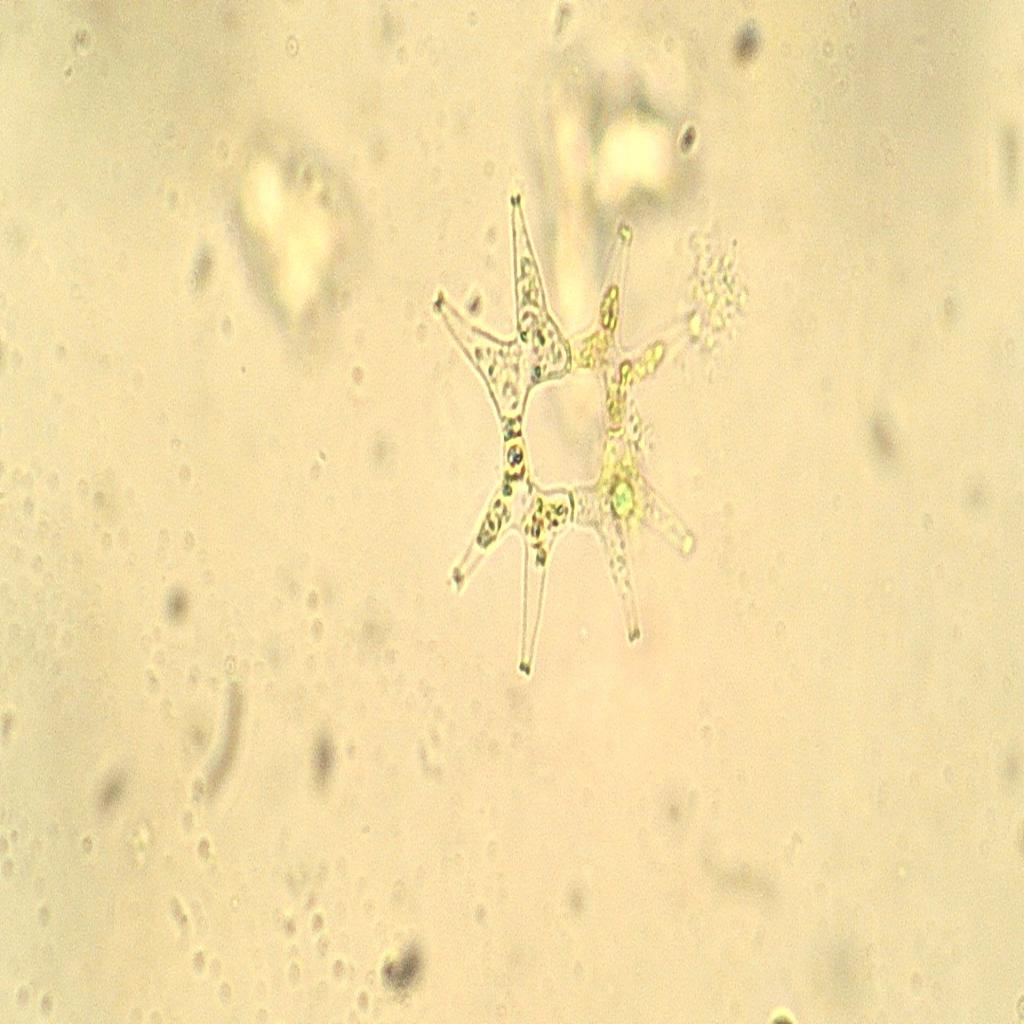Pediastrum_75TH: (411, 172, 711, 688)
